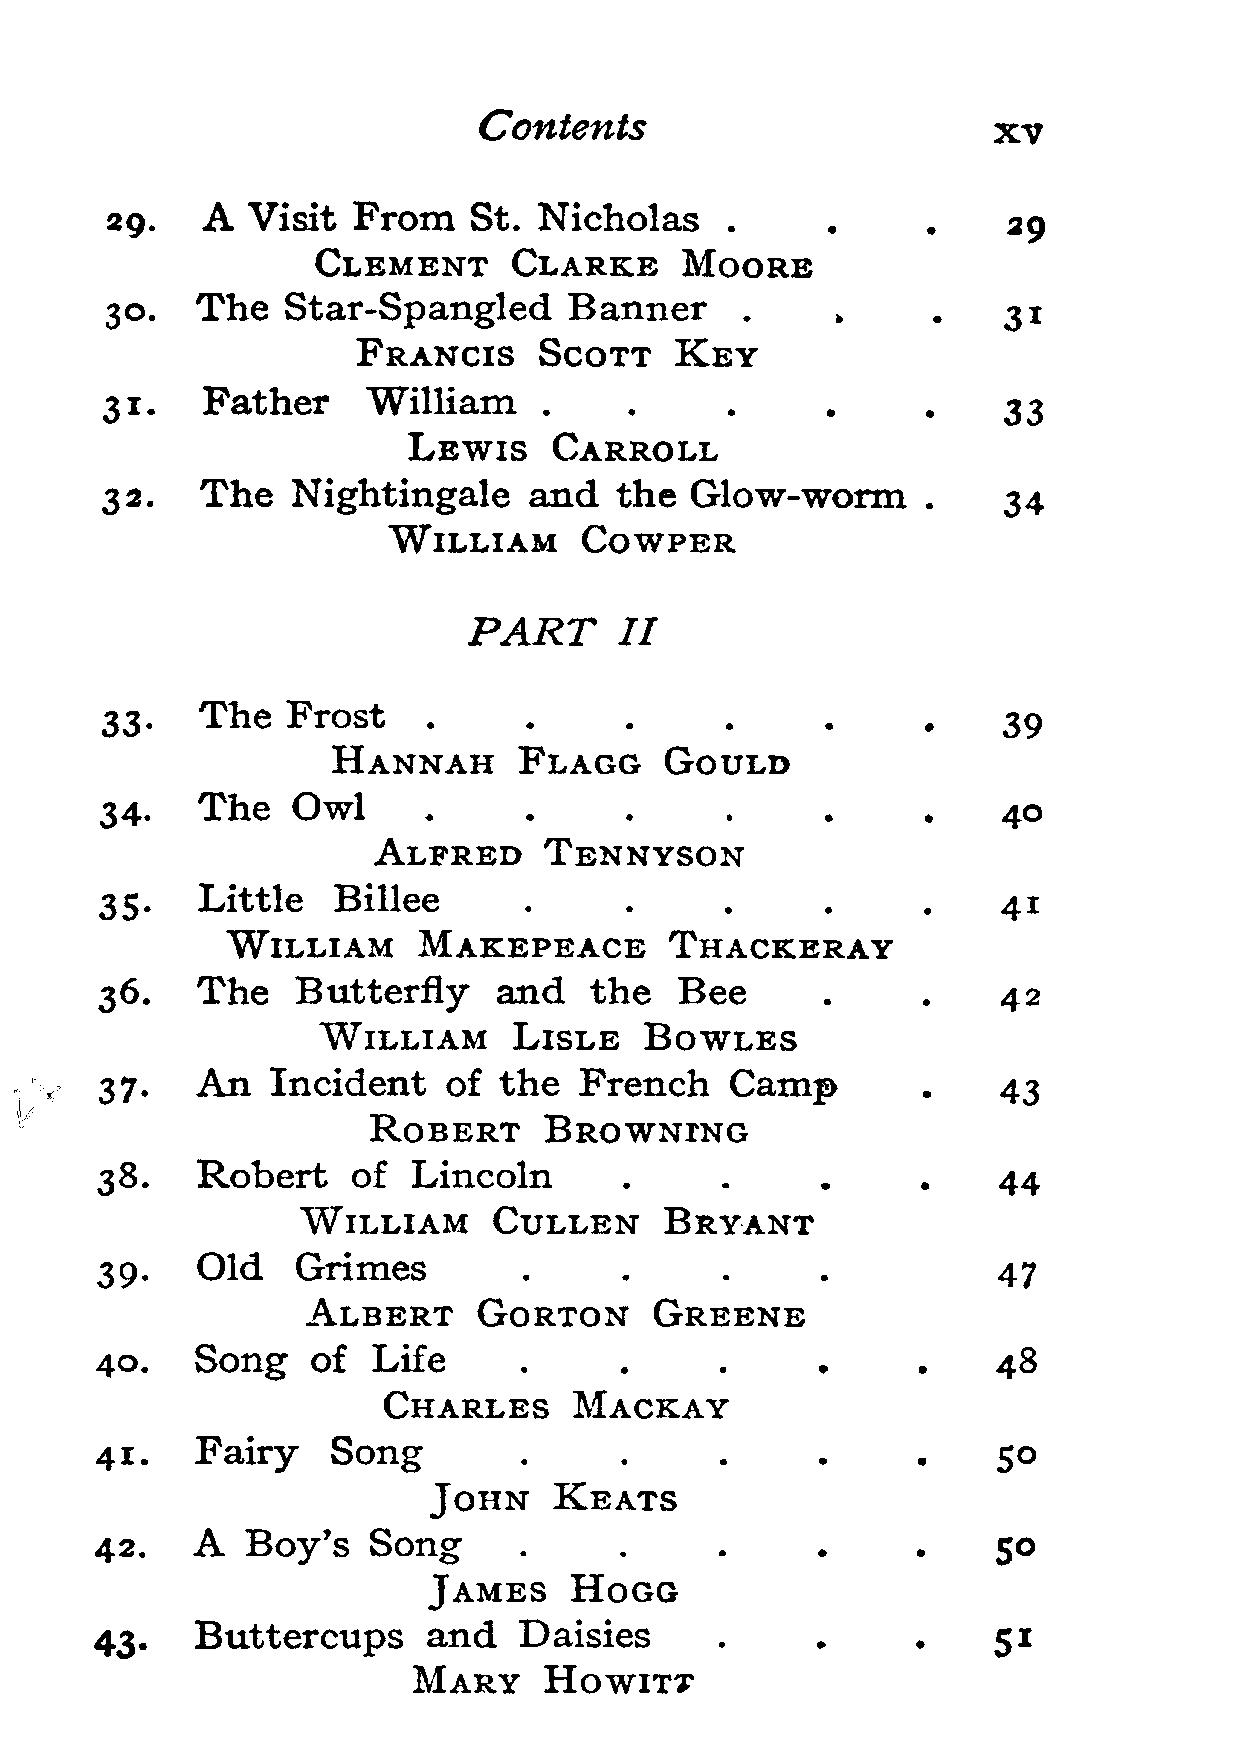TOC_chapter: (97, 875, 896, 968), (94, 471, 910, 560), (99, 183, 823, 282), (95, 1151, 820, 1248), (97, 680, 794, 778), (93, 1248, 811, 1341), (97, 972, 819, 1062), (93, 1067, 855, 1149), (94, 372, 733, 468), (102, 283, 768, 374), (90, 1614, 696, 1707), (93, 1346, 738, 1432), (94, 790, 747, 874), (89, 1439, 678, 1525), (86, 1529, 683, 1610), (455, 609, 658, 655)
TOC_pagenumber: (998, 1062, 1053, 1122), (992, 880, 1049, 929), (994, 790, 1053, 836), (997, 1150, 1041, 1209), (992, 1249, 1045, 1298), (994, 1341, 1045, 1390), (998, 695, 1047, 747), (997, 386, 1053, 431), (997, 289, 1049, 336), (986, 976, 1049, 1015), (990, 476, 1047, 519), (998, 209, 1053, 248), (990, 1436, 1040, 1478), (992, 1622, 1037, 1659), (997, 1533, 1037, 1573)
chapter: (464, 97, 651, 149)
